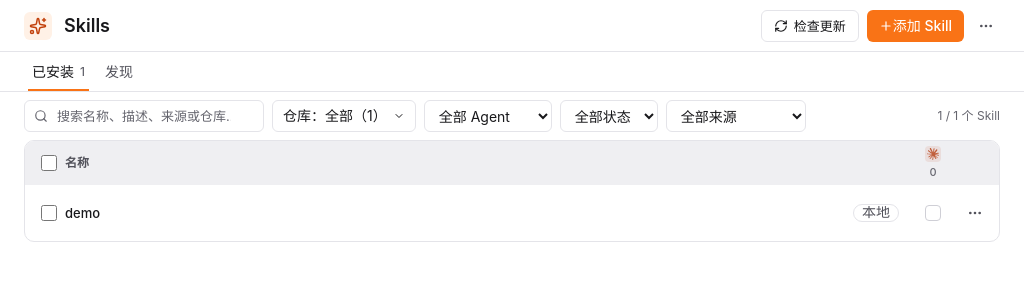
Test: a rejected deployment shows the reason instead of a fake success
Click the checkbox named "Claude Code 启用 demo": [933, 213] box [925,205,941,221]
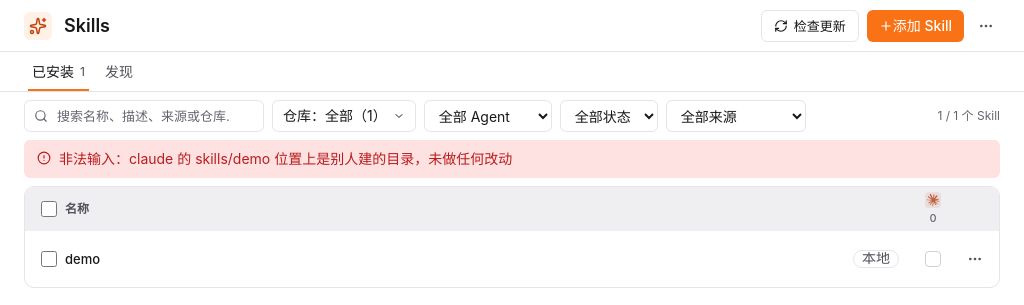
Now the text "非法输入：claude 的 skills/demo 位置上是别人建的目录，未做任何改动" is shown, box [59,149,512,169]
